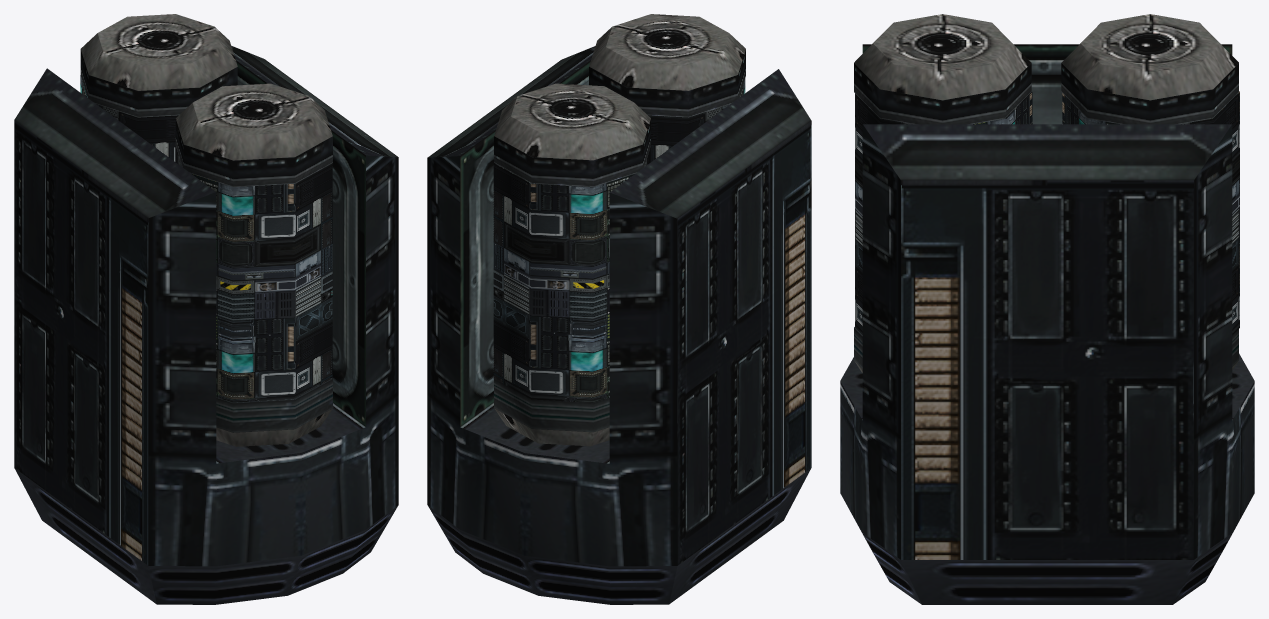
File: Battery_small_01.FBX
The picture shows the model from 3 angles, left to right: view 1: azimuth 30°, elevation 25°; view 2: azimuth 150°, elevation 25°; view 3: azimuth 270°, elevation 25°; orthographic projection. The views are drawn at different scales.
Visible parts, largest first — view 1: Battery_small_01, Liquid; view 2: Battery_small_01, Liquid; view 3: Battery_small_01, Liquid.
Boxes of the visible parts, x1,y1,x2,y2 form: Battery_small_01: (14, 14, 398, 604); Liquid: (80, 75, 332, 402); Battery_small_01: (427, 14, 811, 604); Liquid: (493, 78, 745, 402); Battery_small_01: (840, 14, 1254, 604); Liquid: (855, 91, 1239, 334).
Bounding box in the file's own units: 65.48 × 115 × 85.97.
